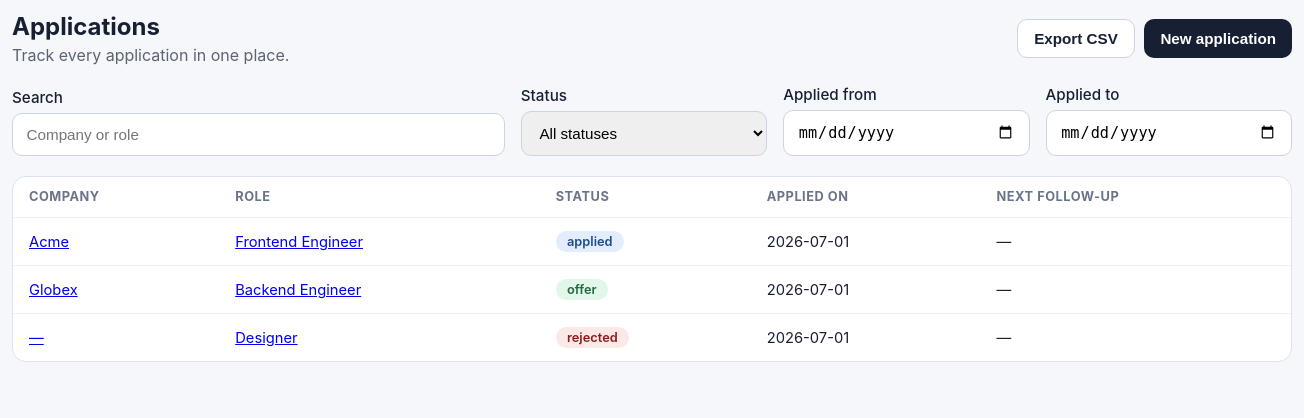
Test: ApplicationsPage › shows an error when the export fails
The image size is (1304, 418).
Expected: the cell "Acme" is shown, [13,218,219,266]
What coordinates should you click on to do the following:
click the button "Export CSV"
I would click on:
 (1076, 38)
Its box is [1017,19,1135,58].
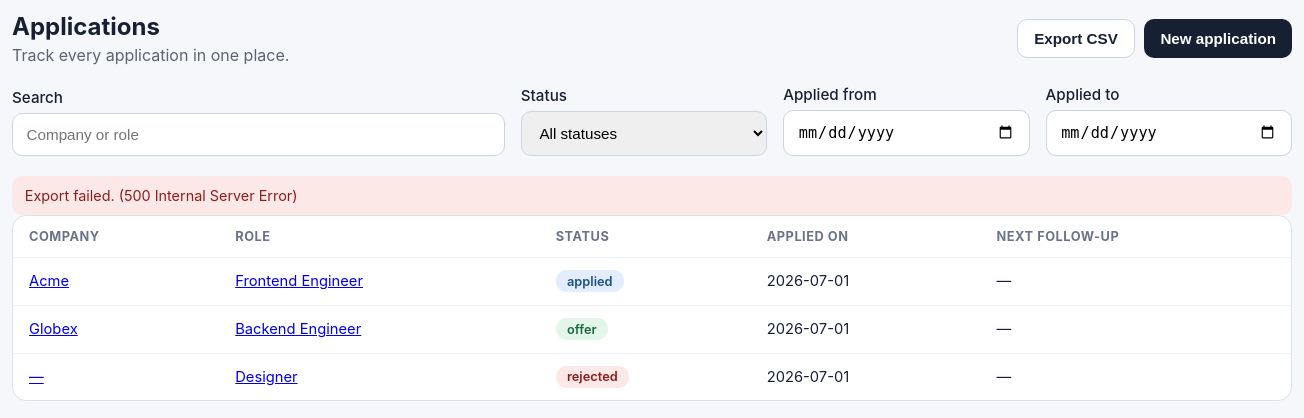
Expected: the text "Export failed. (500 Internal Server Error)" is shown, [12,176,1292,215]
